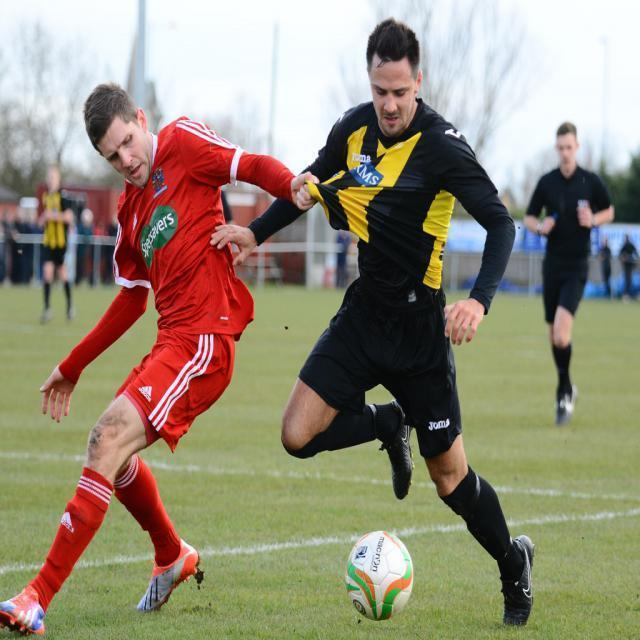ball: (345, 532, 416, 625)
